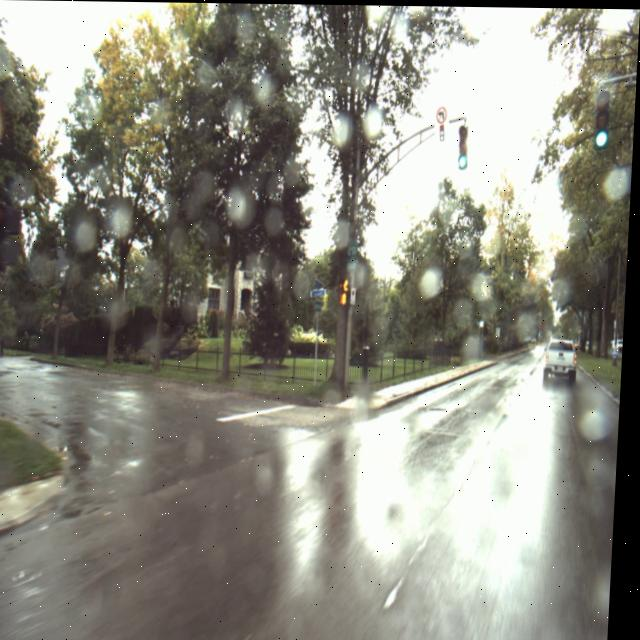car: (546, 336, 582, 384)
pedestrian: (0, 331, 5, 359)
trafficLight: (0, 90, 5, 264), (340, 275, 355, 307)
trafficLight-Green: (596, 88, 612, 147), (459, 123, 470, 170)
